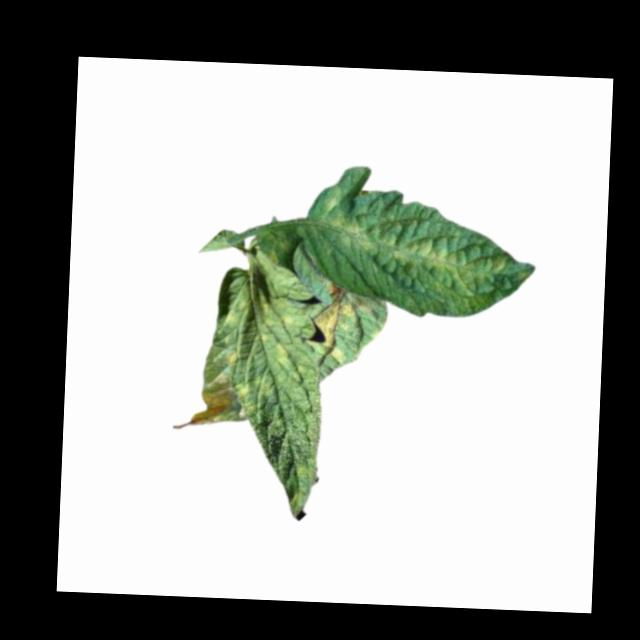Leaf_Mold: (333, 217, 506, 283), (310, 299, 359, 366), (176, 380, 235, 434), (253, 296, 297, 367), (235, 371, 274, 416), (224, 347, 241, 367)
